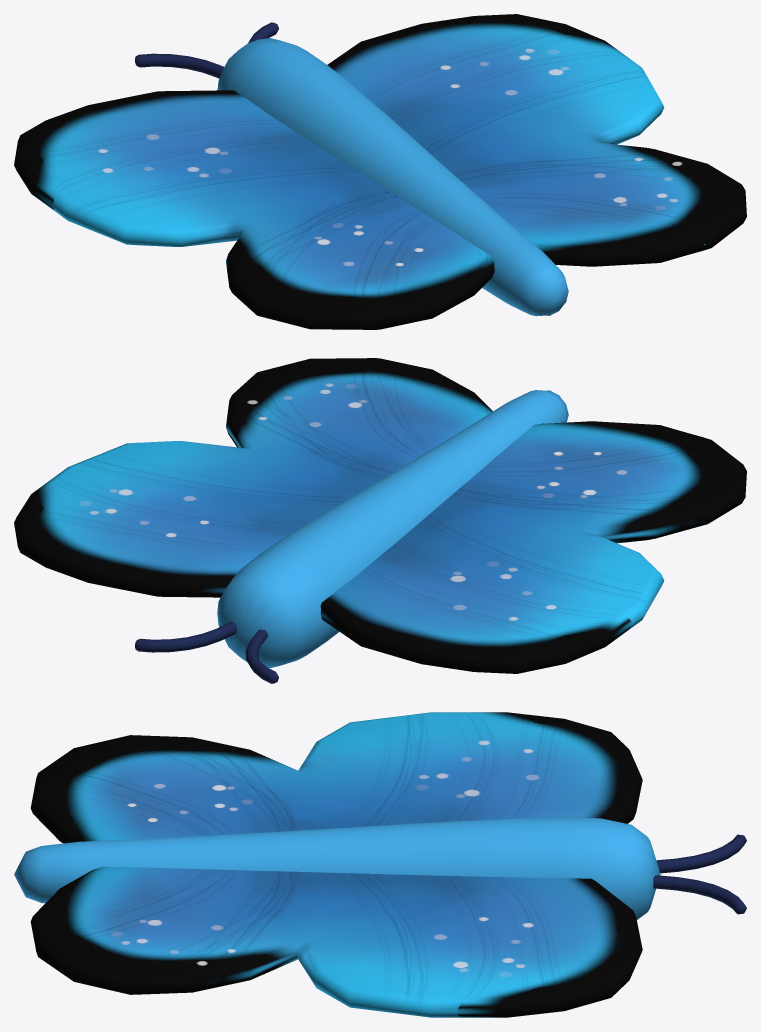
Rendered from tyoutyo_lv1.fbx.
The picture shows the model from 3 angles, top to bottom: view 1: azimuth 30°, elevation 25°; view 2: azimuth 150°, elevation 25°; view 3: azimuth 270°, elevation 25°; orthographic projection. The views are drawn at different scales.
Visible parts, largest first — view 1: 平面.003, 平面.002, 円柱, NURBSパス; view 2: 平面.003, 平面.002, 円柱, NURBSパス; view 3: 平面.002, 平面.003, 円柱, NURBSパス.
Boxes of the visible parts, x1,y1,x2,y2 form: 平面.003: [14, 90, 494, 329]; 平面.002: [327, 14, 746, 266]; 円柱: [217, 38, 568, 316]; NURBSパス: [135, 22, 278, 78]; 平面.003: [320, 421, 746, 673]; 平面.002: [14, 358, 492, 597]; 円柱: [217, 390, 568, 668]; NURBSパス: [135, 621, 278, 683]; 平面.002: [30, 866, 642, 1017]; 平面.003: [30, 712, 642, 843]; 円柱: [14, 817, 660, 919]; NURBSパス: [653, 834, 746, 914].
Bounding box in the file's own units: 1159 × 191 × 1219.
